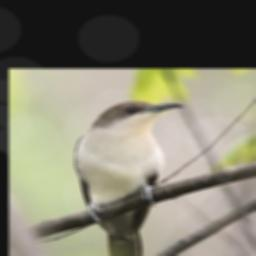Cuckoo: (73, 100, 186, 256)
